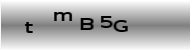5: (99, 14, 113, 29)
B: (79, 17, 95, 31)
G: (113, 18, 128, 32)
m: (52, 11, 73, 22)
t: (24, 21, 35, 34)
